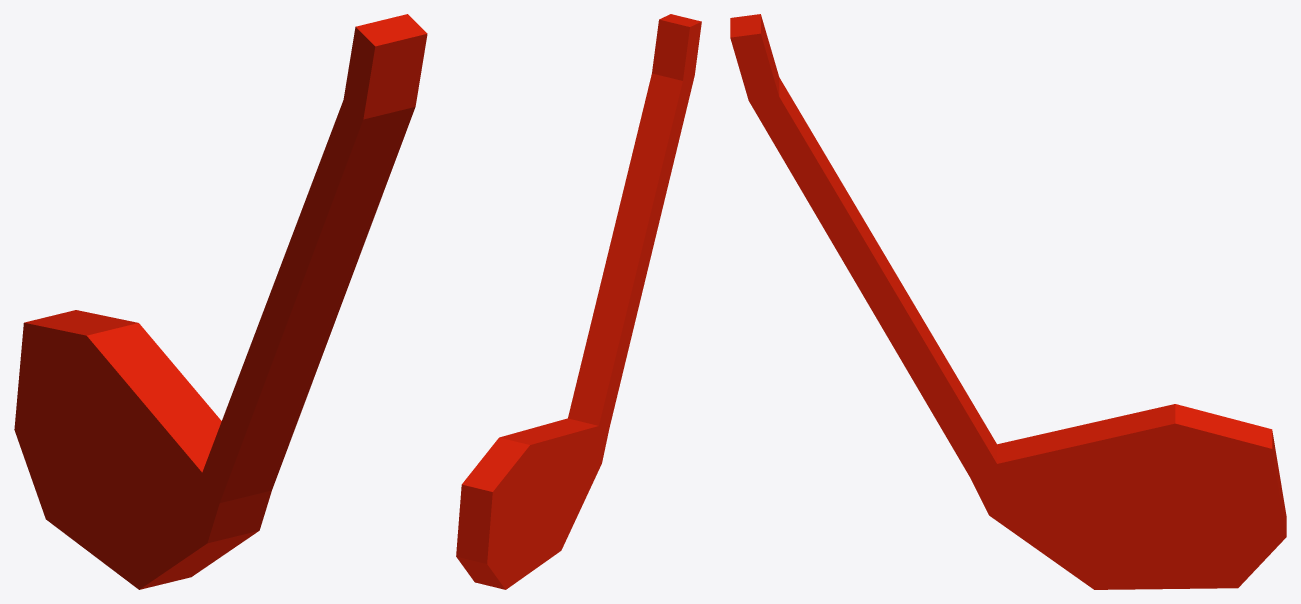
Rendered from WrongNoteSlice2.fbx.
3 renders of one model, left to right at view 1: azimuth 30°, elevation 25°; view 2: azimuth 150°, elevation 25°; view 3: azimuth 270°, elevation 25°, orthographic. The views are drawn at different scales.
Parts seen in each view (by area): view 1: WrongNoteSlice2; view 2: WrongNoteSlice2; view 3: WrongNoteSlice2.
Part boxes in pixels (x1,y1,x2,y2): WrongNoteSlice2: [14, 14, 427, 589]; WrongNoteSlice2: [456, 14, 701, 589]; WrongNoteSlice2: [730, 14, 1286, 589].
Size of the model in its own units: 0.6927 by 9.15 by 8.29.
